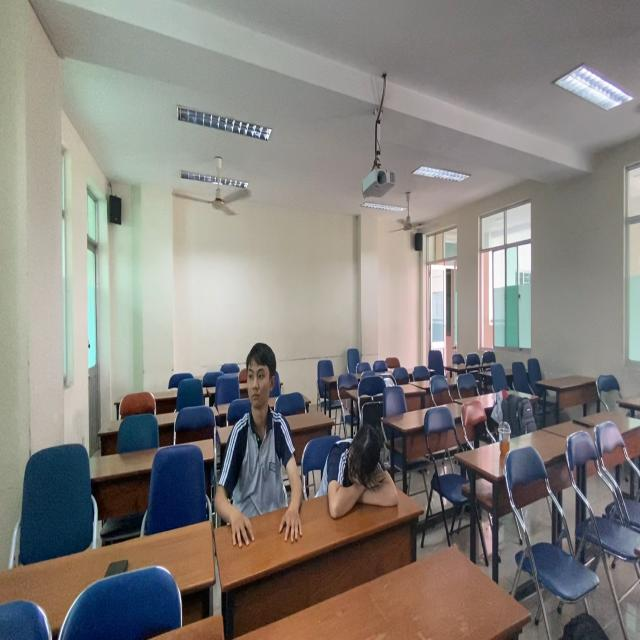sleep: (323, 425, 404, 523)
